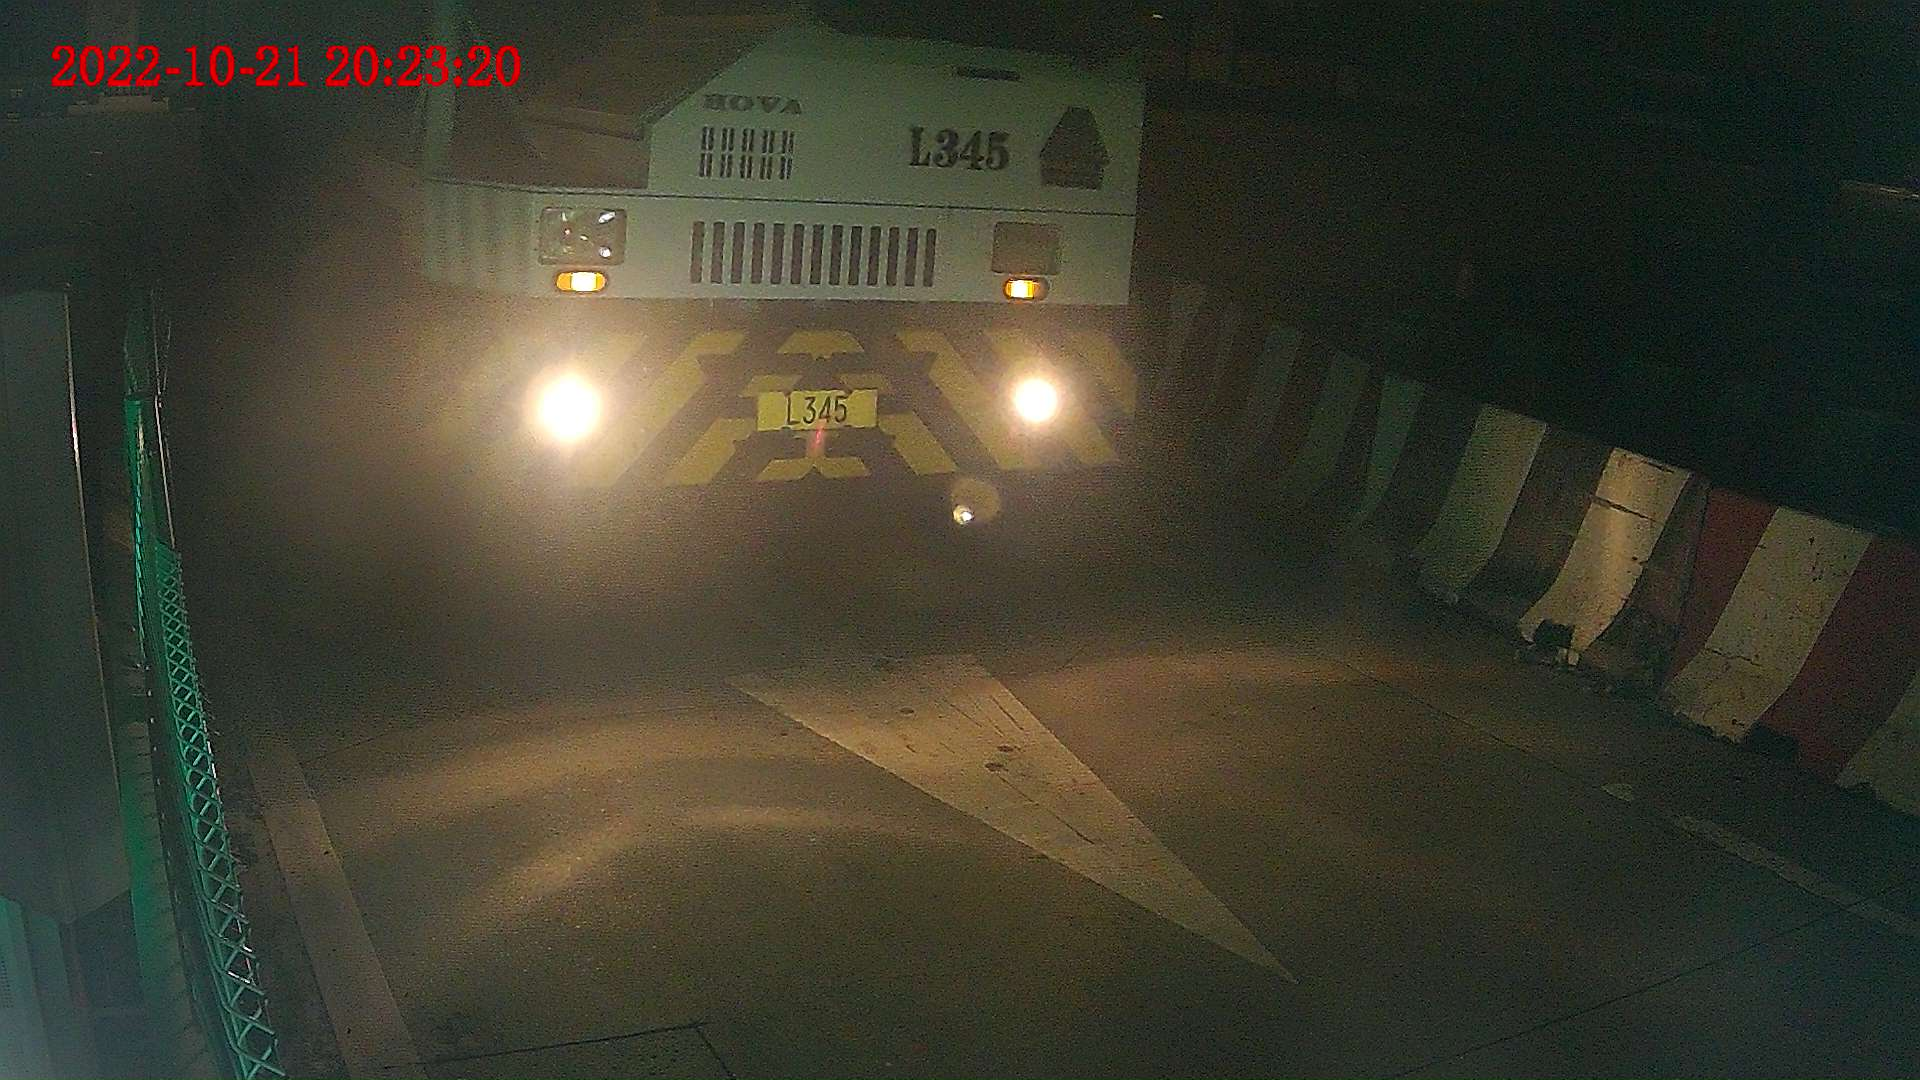head: (319, 1, 1145, 603)
plate: (755, 390, 875, 427)
